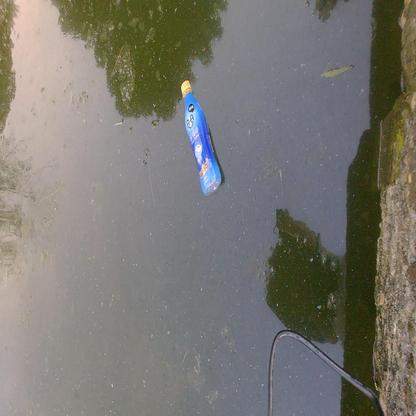plastic bottle: (179, 79, 223, 195)
